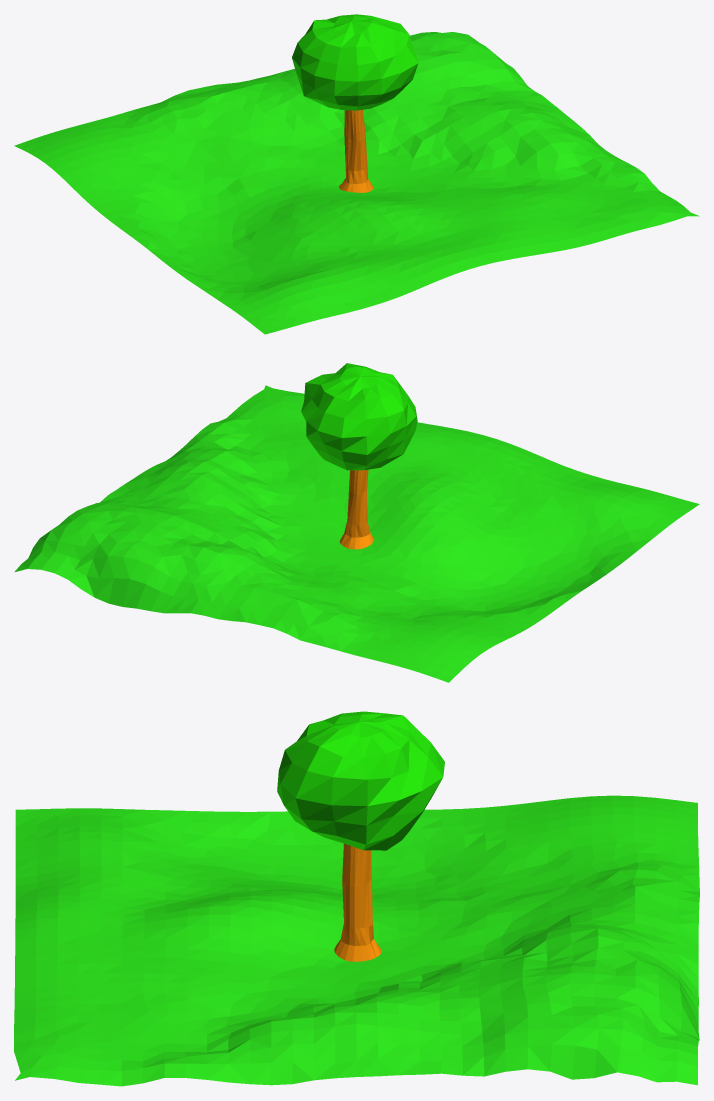
The model's file is baum.glb.
3 renders of one model, top to bottom at view 1: azimuth 30°, elevation 25°; view 2: azimuth 150°, elevation 25°; view 3: azimuth 270°, elevation 25°, orthographic. The views are drawn at different scales.
Parts seen in each view (by area): view 1: Plane, blatt, stamm; view 2: Plane, blatt, stamm; view 3: Plane, blatt, stamm.
Part boxes in pixels (x1,y1,x2,y2): Plane: (14,32,699,334); blatt: (292,14,418,110); stamm: (339,109,373,192); Plane: (14,385,699,682); blatt: (301,363,417,470); stamm: (339,469,374,549); Plane: (14,795,699,1086); blatt: (277,711,444,850); stamm: (334,843,381,961).
Bounding box in the file's own units: 42.02 × 17.04 × 41.83.
